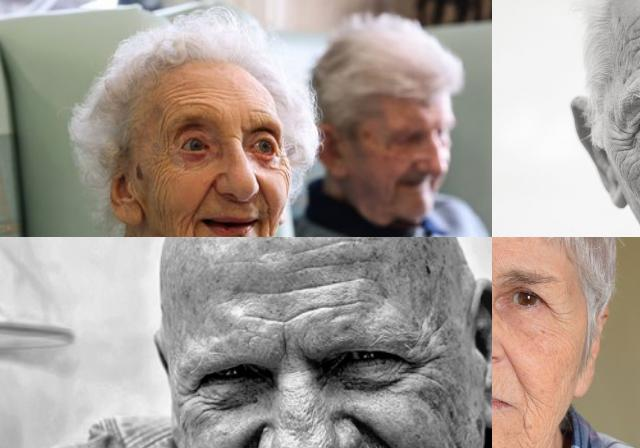crows_feet: (606, 121, 636, 161), (403, 348, 437, 376), (177, 380, 206, 408), (544, 301, 564, 321), (158, 139, 174, 157)
forehead: (242, 300, 354, 324), (256, 276, 368, 296), (288, 255, 384, 274), (298, 237, 360, 251), (244, 102, 274, 124), (624, 24, 640, 65), (169, 88, 201, 108), (204, 96, 223, 119)
frown_line: (274, 332, 294, 364), (227, 129, 245, 143), (492, 258, 498, 284)
gummy_smile: (354, 414, 402, 444), (504, 350, 528, 388), (192, 175, 214, 213), (253, 178, 271, 214), (227, 426, 256, 448)
masseter: (153, 168, 173, 212), (279, 162, 293, 188)
sad_smile: (516, 413, 534, 437), (187, 227, 199, 237)
